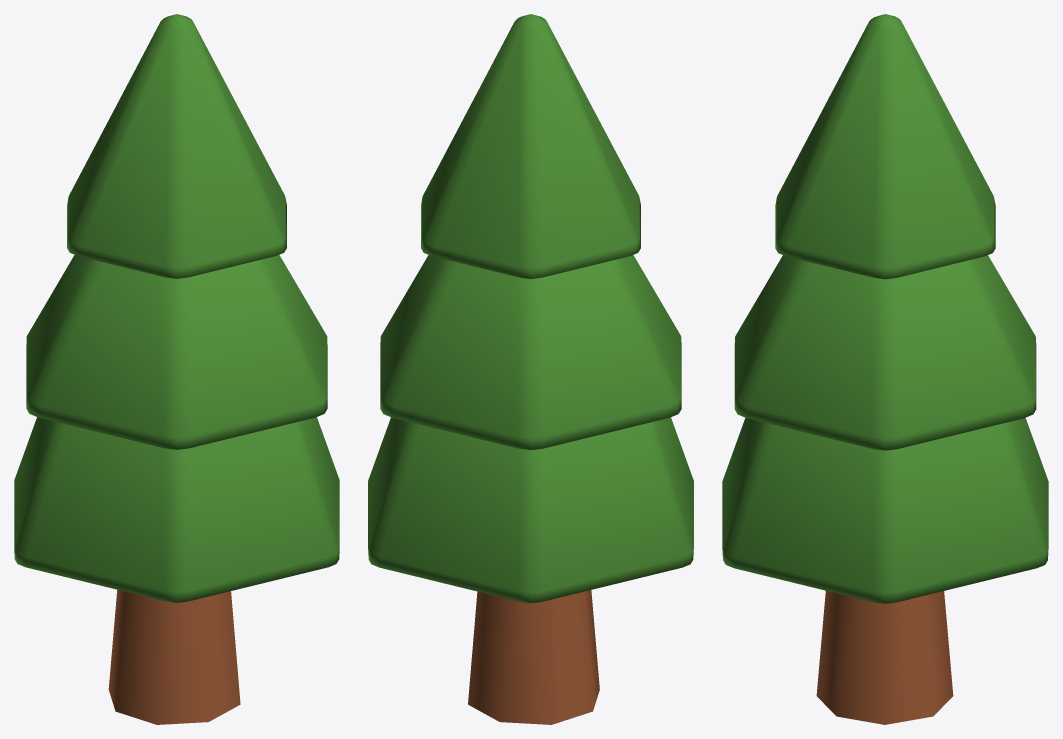
Rendered from Pine_Tree_01.fbx.
The picture shows the model from 3 angles, left to right: view 1: azimuth 30°, elevation 25°; view 2: azimuth 150°, elevation 25°; view 3: azimuth 270°, elevation 25°; orthographic projection.
Parts seen in each view (by area): view 1: Pine_Tree_01; view 2: Pine_Tree_01; view 3: Pine_Tree_01.
Boxes of the visible parts, <box> form: Pine_Tree_01: <box>14,14,339,724</box>; Pine_Tree_01: <box>368,14,693,724</box>; Pine_Tree_01: <box>722,14,1048,724</box>.
Size of the model in its own units: 1546 by 3156 by 1365.
